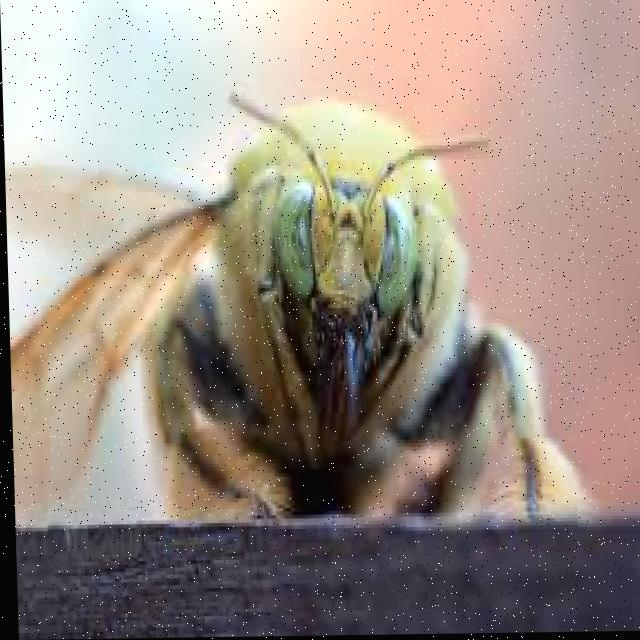Xylocopa: (33, 39, 575, 549)
